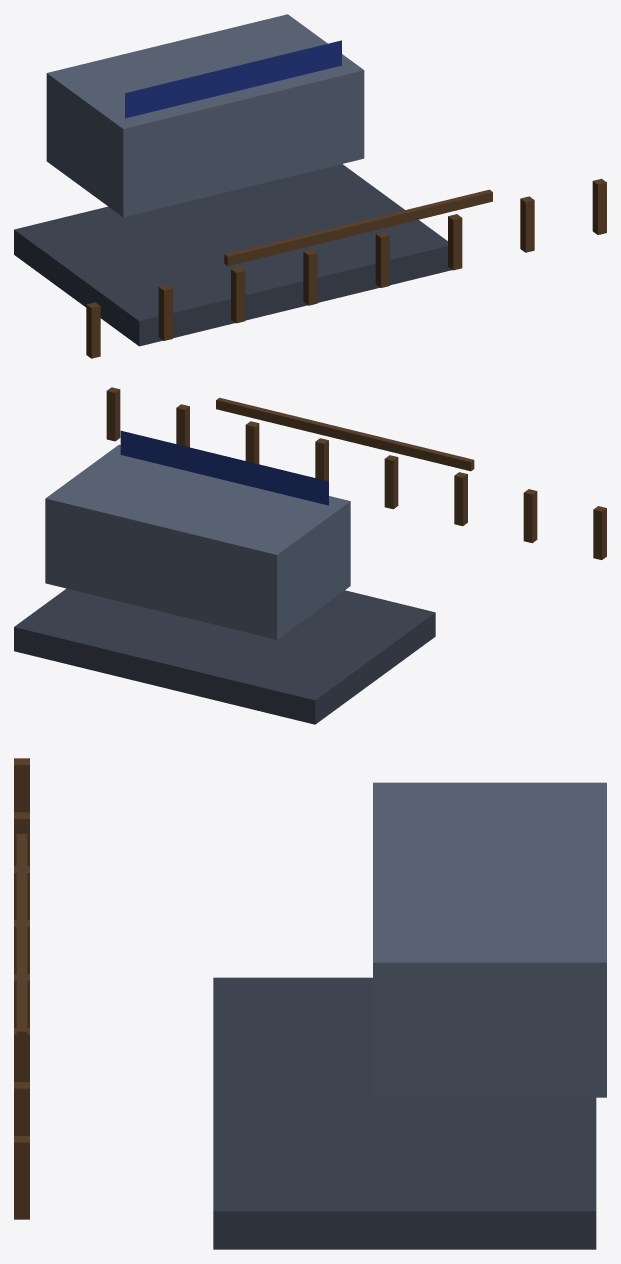
File: vanguard_stables.glb
The picture shows the model from 3 angles, top to bottom: view 1: azimuth 30°, elevation 25°; view 2: azimuth 150°, elevation 25°; view 3: azimuth 270°, elevation 25°; orthographic projection. The views are drawn at different scales.
Visible parts, largest first — view 1: vanguard_stables; view 2: vanguard_stables; view 3: vanguard_stables.
Part boxes in pixels (left/top/right/bottom): vanguard_stables: left=14, top=14, right=606, bottom=358; vanguard_stables: left=14, top=387, right=606, bottom=724; vanguard_stables: left=14, top=758, right=606, bottom=1249.
Bounding box in the file's own units: 42.75 × 15.5 × 27.88.
